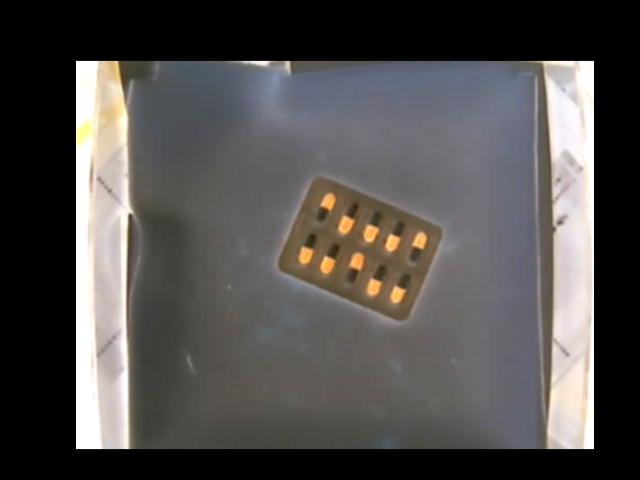Medicine: (273, 178, 444, 317)
